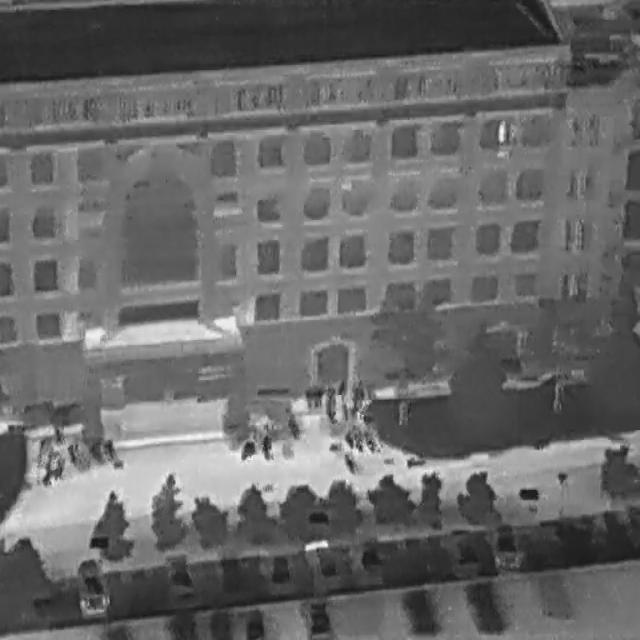Bicycle: (35, 452, 68, 492), (98, 434, 127, 474), (61, 438, 87, 472), (282, 412, 303, 442), (339, 448, 359, 478), (323, 384, 336, 418), (348, 428, 365, 454), (337, 390, 351, 421), (360, 428, 377, 453), (32, 434, 46, 464), (350, 382, 364, 412), (238, 439, 256, 461), (87, 439, 105, 460), (259, 434, 273, 461), (40, 445, 55, 469), (52, 421, 66, 445), (404, 455, 425, 469), (312, 385, 324, 406), (302, 385, 312, 406), (343, 428, 353, 448)
Car: (71, 550, 111, 619), (159, 546, 197, 604), (445, 521, 481, 575), (303, 536, 336, 584), (491, 521, 521, 570), (307, 599, 331, 636), (241, 606, 265, 636)
